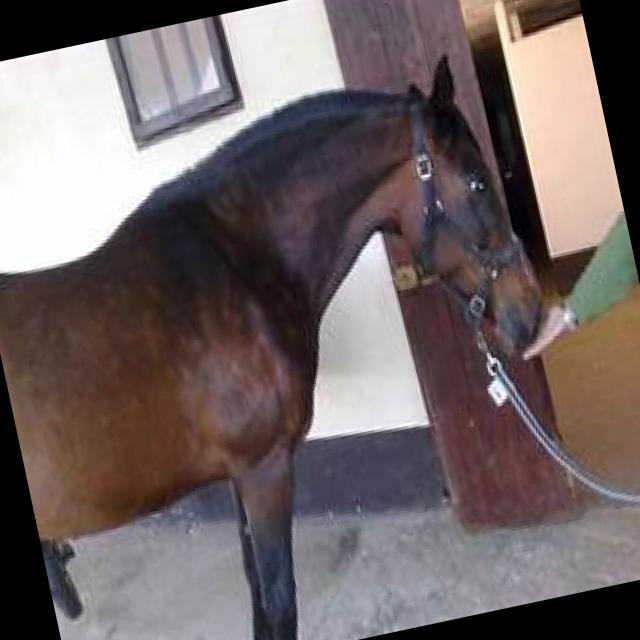horse: (0, 49, 591, 640)
